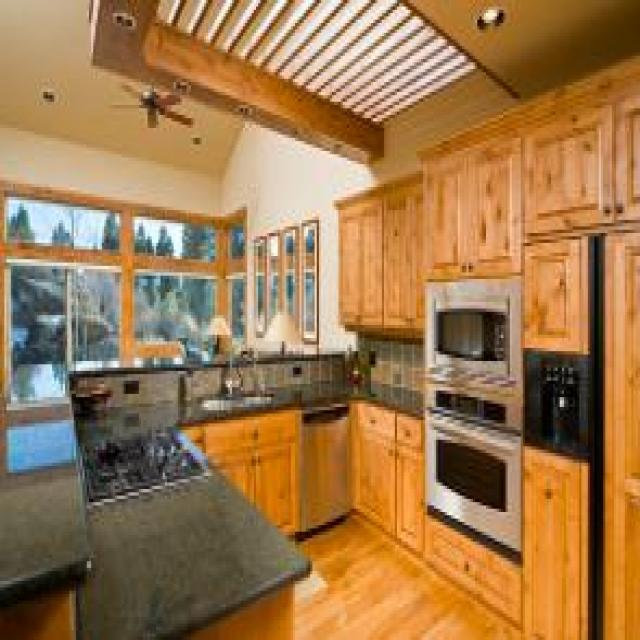dishwasher: (298, 397, 350, 529)
